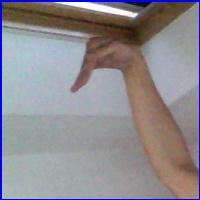del: (67, 33, 146, 98)
